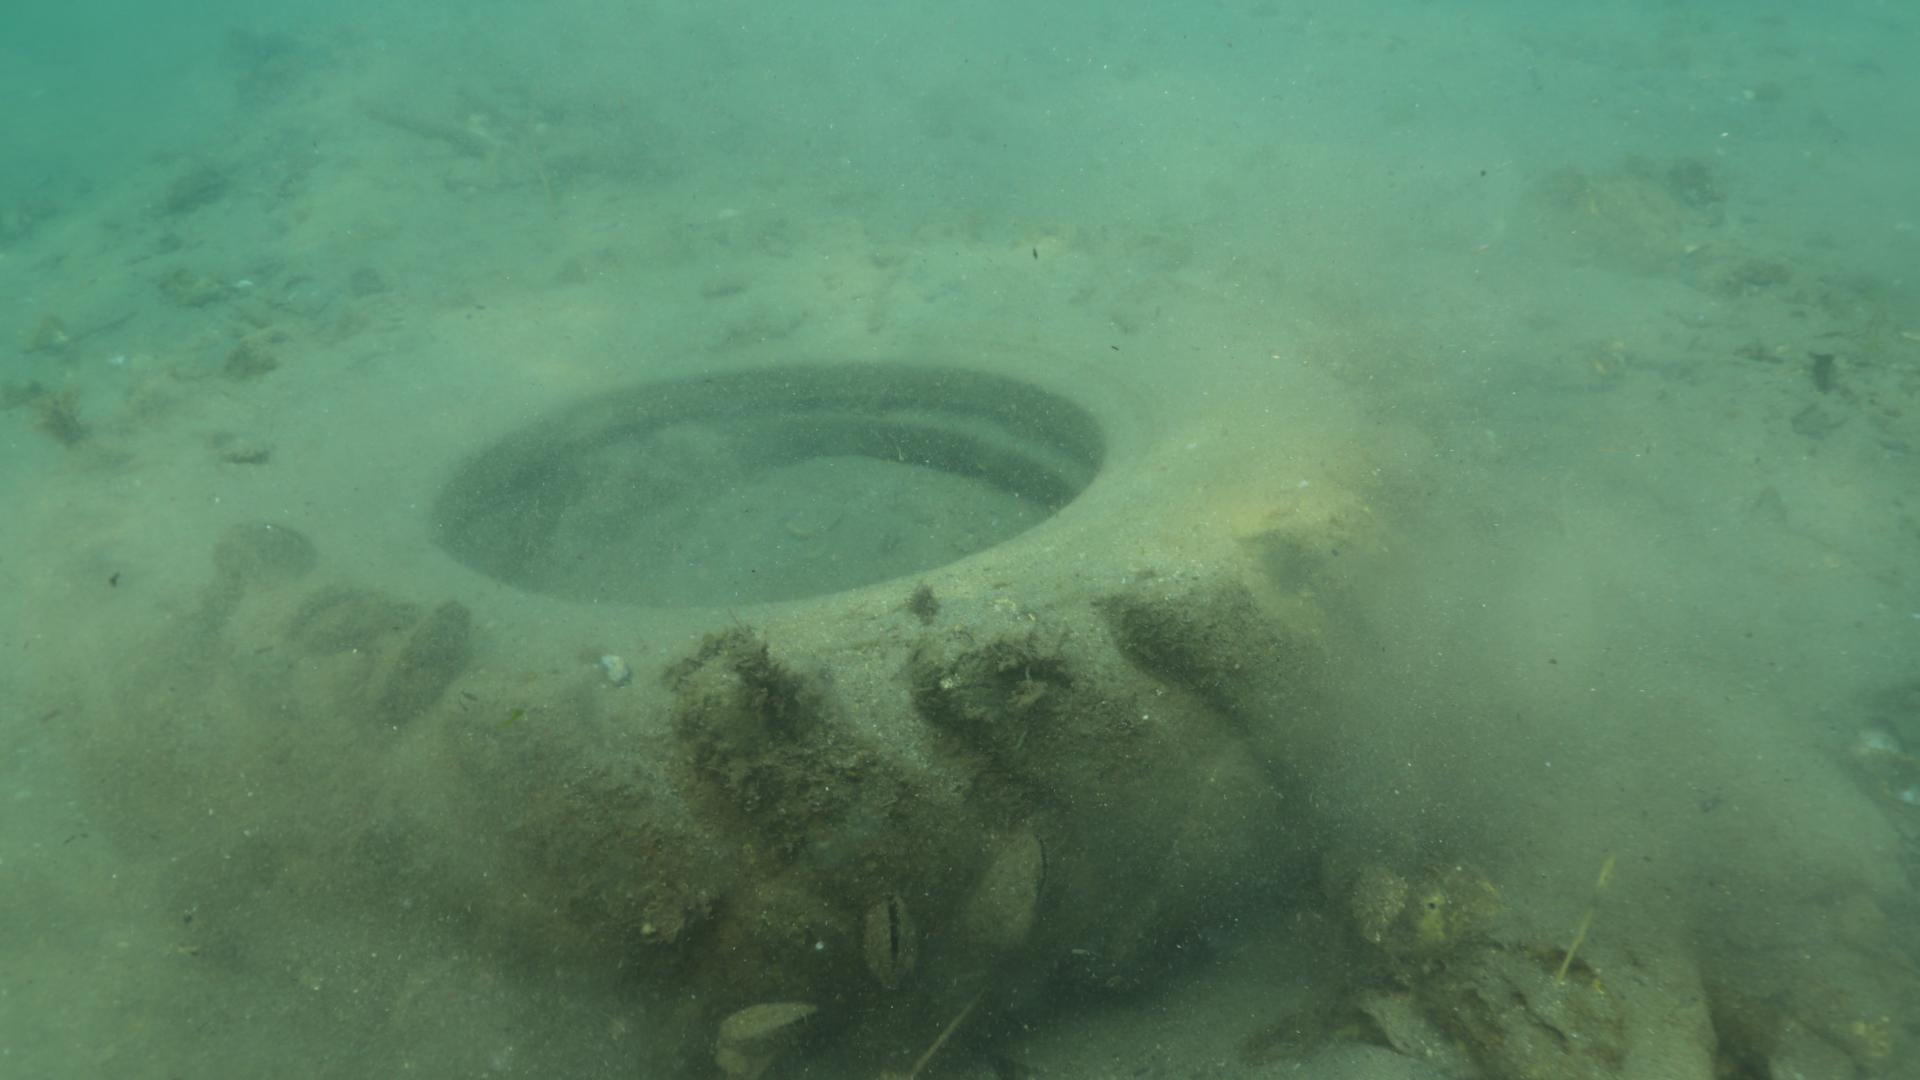tire: (82, 218, 1389, 1029)
